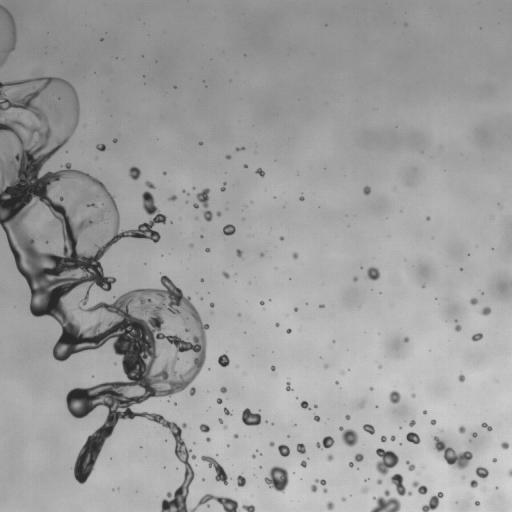droplet: (370, 490, 400, 511), (264, 466, 288, 492), (375, 448, 398, 475), (339, 427, 358, 446), (241, 408, 261, 425), (316, 436, 334, 448), (310, 479, 326, 492), (412, 481, 427, 494), (366, 267, 380, 280), (406, 432, 420, 444), (389, 390, 401, 403), (475, 467, 488, 479), (129, 166, 140, 180), (222, 224, 235, 235), (218, 354, 229, 367), (278, 444, 289, 456), (362, 424, 374, 434), (237, 474, 246, 487), (39, 235, 51, 243), (300, 400, 310, 409), (296, 443, 305, 453), (471, 333, 482, 341), (354, 453, 363, 462), (406, 461, 415, 470), (481, 307, 491, 315), (326, 501, 334, 511), (255, 168, 264, 176), (200, 424, 209, 432), (96, 144, 105, 151), (145, 181, 154, 188), (363, 186, 370, 194), (454, 323, 461, 331), (501, 442, 509, 449), (470, 480, 478, 487), (8, 142, 14, 151), (286, 382, 292, 391), (470, 298, 477, 305), (224, 408, 231, 415), (458, 426, 465, 433), (236, 249, 242, 257), (189, 387, 195, 395), (169, 195, 176, 201), (292, 252, 298, 259), (458, 374, 464, 381), (327, 454, 333, 461), (300, 460, 306, 467), (223, 272, 229, 278), (220, 387, 226, 393), (216, 398, 222, 404), (430, 419, 436, 425), (409, 420, 415, 426), (381, 435, 386, 442), (236, 147, 244, 151), (507, 468, 511, 476), (359, 401, 364, 407), (314, 415, 319, 421), (390, 435, 395, 441), (376, 479, 382, 484), (362, 487, 368, 492), (193, 203, 198, 208), (216, 211, 221, 216), (286, 328, 291, 333), (404, 337, 409, 342), (472, 432, 477, 437), (348, 462, 353, 467), (226, 155, 231, 159), (299, 196, 304, 200), (205, 248, 210, 252), (353, 276, 357, 281), (271, 366, 275, 371), (345, 415, 350, 419), (218, 418, 222, 423), (206, 437, 210, 442), (269, 442, 274, 446), (113, 138, 117, 142), (260, 301, 264, 305), (275, 322, 279, 326), (411, 393, 415, 397), (223, 425, 227, 429), (234, 434, 238, 438), (492, 458, 496, 462), (323, 488, 327, 492), (341, 497, 345, 501), (475, 501, 479, 505), (319, 304, 324, 307), (280, 236, 283, 240), (294, 307, 297, 311), (199, 142, 202, 145), (426, 217, 429, 220), (260, 253, 263, 256), (210, 303, 213, 306), (324, 365, 327, 368), (423, 410, 426, 413), (252, 455, 255, 458), (58, 96, 60, 99), (244, 164, 246, 167), (163, 172, 166, 174), (192, 187, 195, 189), (182, 190, 185, 192), (190, 244, 192, 247), (200, 279, 203, 281), (336, 381, 338, 384), (370, 387, 372, 390), (314, 405, 317, 407), (462, 476, 464, 479), (238, 313, 240, 315), (332, 340, 334, 342), (379, 366, 381, 368)
ligament: (0, 77, 239, 511), (434, 436, 472, 469), (0, 5, 16, 67), (201, 455, 228, 485), (196, 188, 212, 221), (390, 473, 412, 495), (421, 492, 443, 511), (47, 99, 61, 122), (481, 422, 492, 431), (241, 505, 255, 511), (220, 182, 225, 191)
